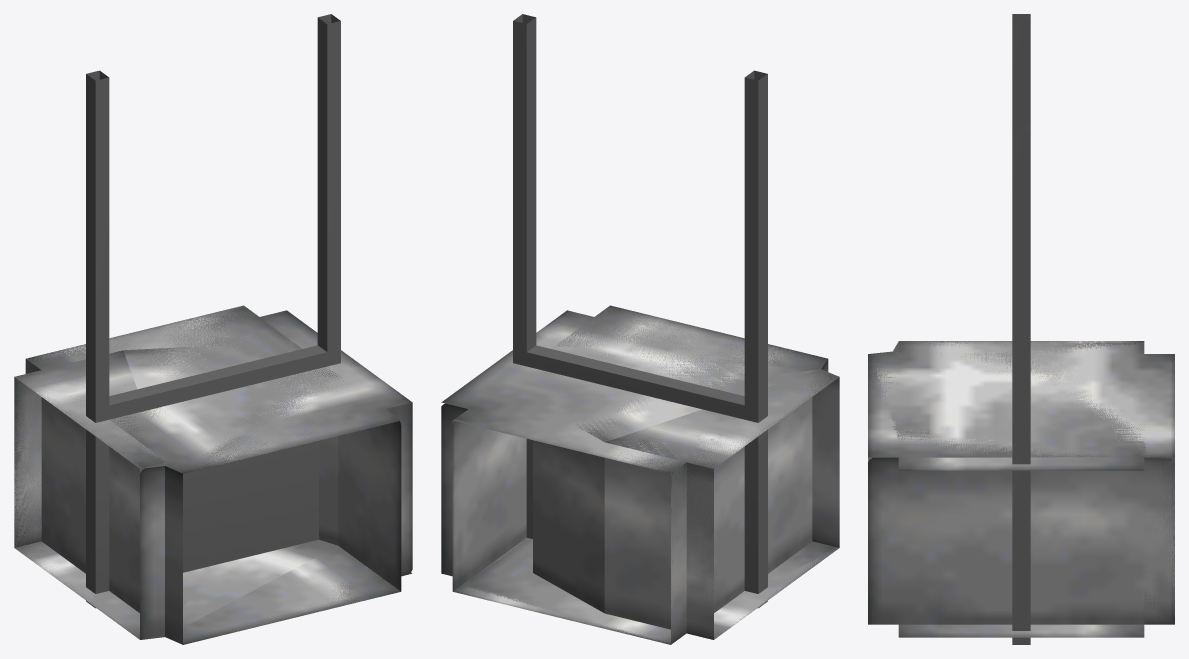
Rendered from duct.fbx.
3 views of the same model, side by side, from view 1: azimuth 30°, elevation 25°; view 2: azimuth 150°, elevation 25°; view 3: azimuth 270°, elevation 25° (orthographic). The views are drawn at different scales.
Parts seen in each view (by area): view 1: duct_straight.001, duct_corner, duct_straight, duct_junction, duct_Tjunction; view 2: duct_corner, duct_junction, duct_Tjunction, duct_straight.001, duct_straight; view 3: duct_Tjunction, duct_junction, duct_straight, duct_straight.001, duct_corner.
Boxes of the visible parts, x1,y1,x2,y2 form: duct_straight.001: [86, 14, 340, 608]; duct_corner: [15, 346, 401, 644]; duct_straight: [30, 306, 401, 639]; duct_junction: [14, 305, 412, 641]; duct_Tjunction: [14, 305, 401, 644]; duct_corner: [533, 306, 838, 639]; duct_junction: [441, 306, 839, 643]; duct_Tjunction: [452, 305, 839, 644]; duct_straight.001: [513, 14, 767, 608]; duct_straight: [459, 306, 824, 644]; duct_Tjunction: [868, 341, 1174, 624]; duct_junction: [869, 341, 1174, 637]; duct_straight: [868, 354, 1174, 624]; duct_straight.001: [1012, 14, 1030, 644]; duct_corner: [868, 341, 1143, 623].
Size of the model in its own units: 1 by 1.85 by 1.
